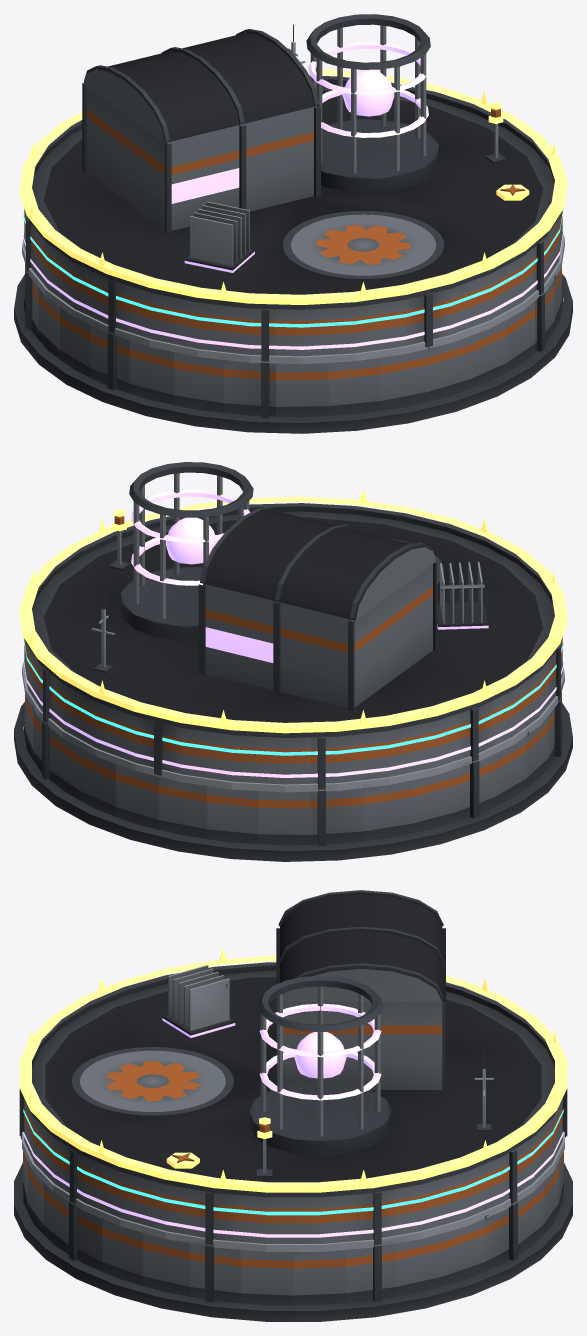
File: metamaterial_foundry_s_far.glb
3 renders of one model, top to bottom at view 1: azimuth 30°, elevation 25°; view 2: azimuth 150°, elevation 25°; view 3: azimuth 270°, elevation 25°, orthographic.
Parts seen in each view (by area): view 1: Roof, Base, L5, L4, L2, L3; view 2: Roof, Base, L5, L2, L4, L3; view 3: Roof, Base, L5, L4, L2, L3.
Part boxes in pixels (bbox=[...]): Roof: bbox=[24, 14, 562, 361]; Base: bbox=[14, 263, 572, 433]; L5: bbox=[19, 61, 567, 304]; L4: bbox=[23, 201, 563, 349]; L2: bbox=[22, 24, 564, 364]; L3: bbox=[23, 209, 563, 327]; Roof: bbox=[24, 462, 562, 789]; Base: bbox=[14, 691, 572, 861]; L5: bbox=[19, 489, 567, 733]; L2: bbox=[22, 592, 564, 792]; L4: bbox=[23, 562, 563, 777]; L3: bbox=[23, 637, 563, 755]; Roof: bbox=[19, 890, 567, 1245]; Base: bbox=[14, 1136, 572, 1321]; L5: bbox=[19, 948, 567, 1192]; L4: bbox=[23, 965, 563, 1237]; L2: bbox=[22, 1051, 564, 1251]; L3: bbox=[23, 1109, 563, 1215].
Bounding box in the file's own units: 11.74 × 5.74 × 11.74.
